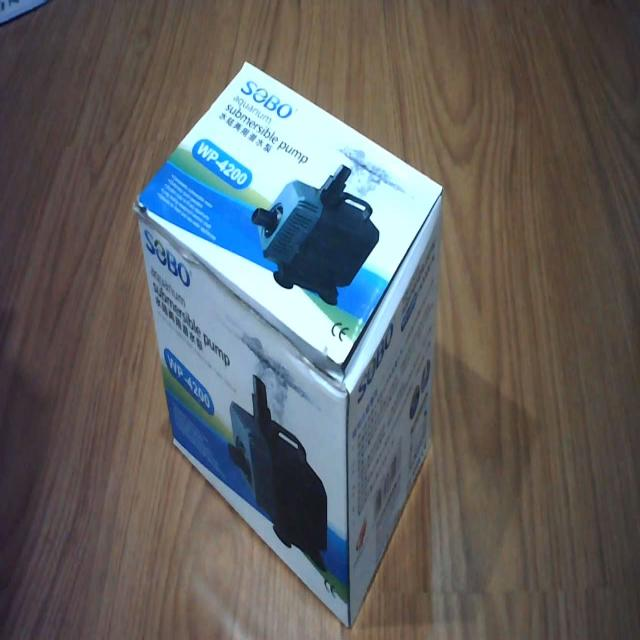SOBO_WP_4200: (130, 49, 446, 635)
